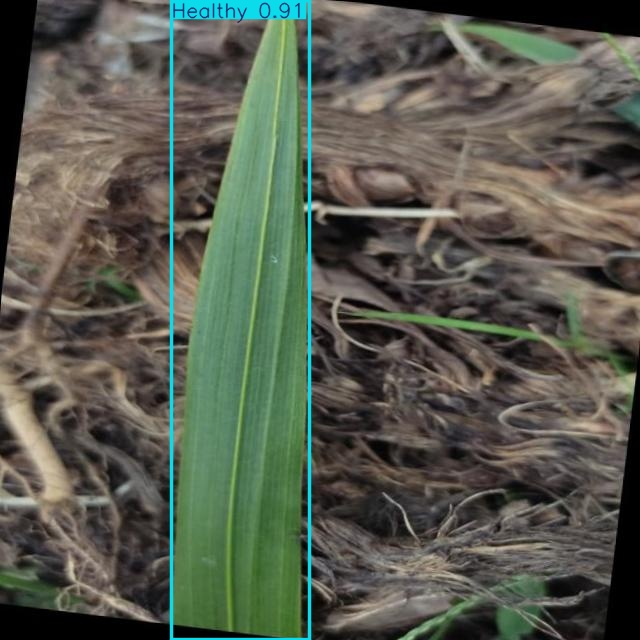Healthy: (172, 0, 310, 639)
